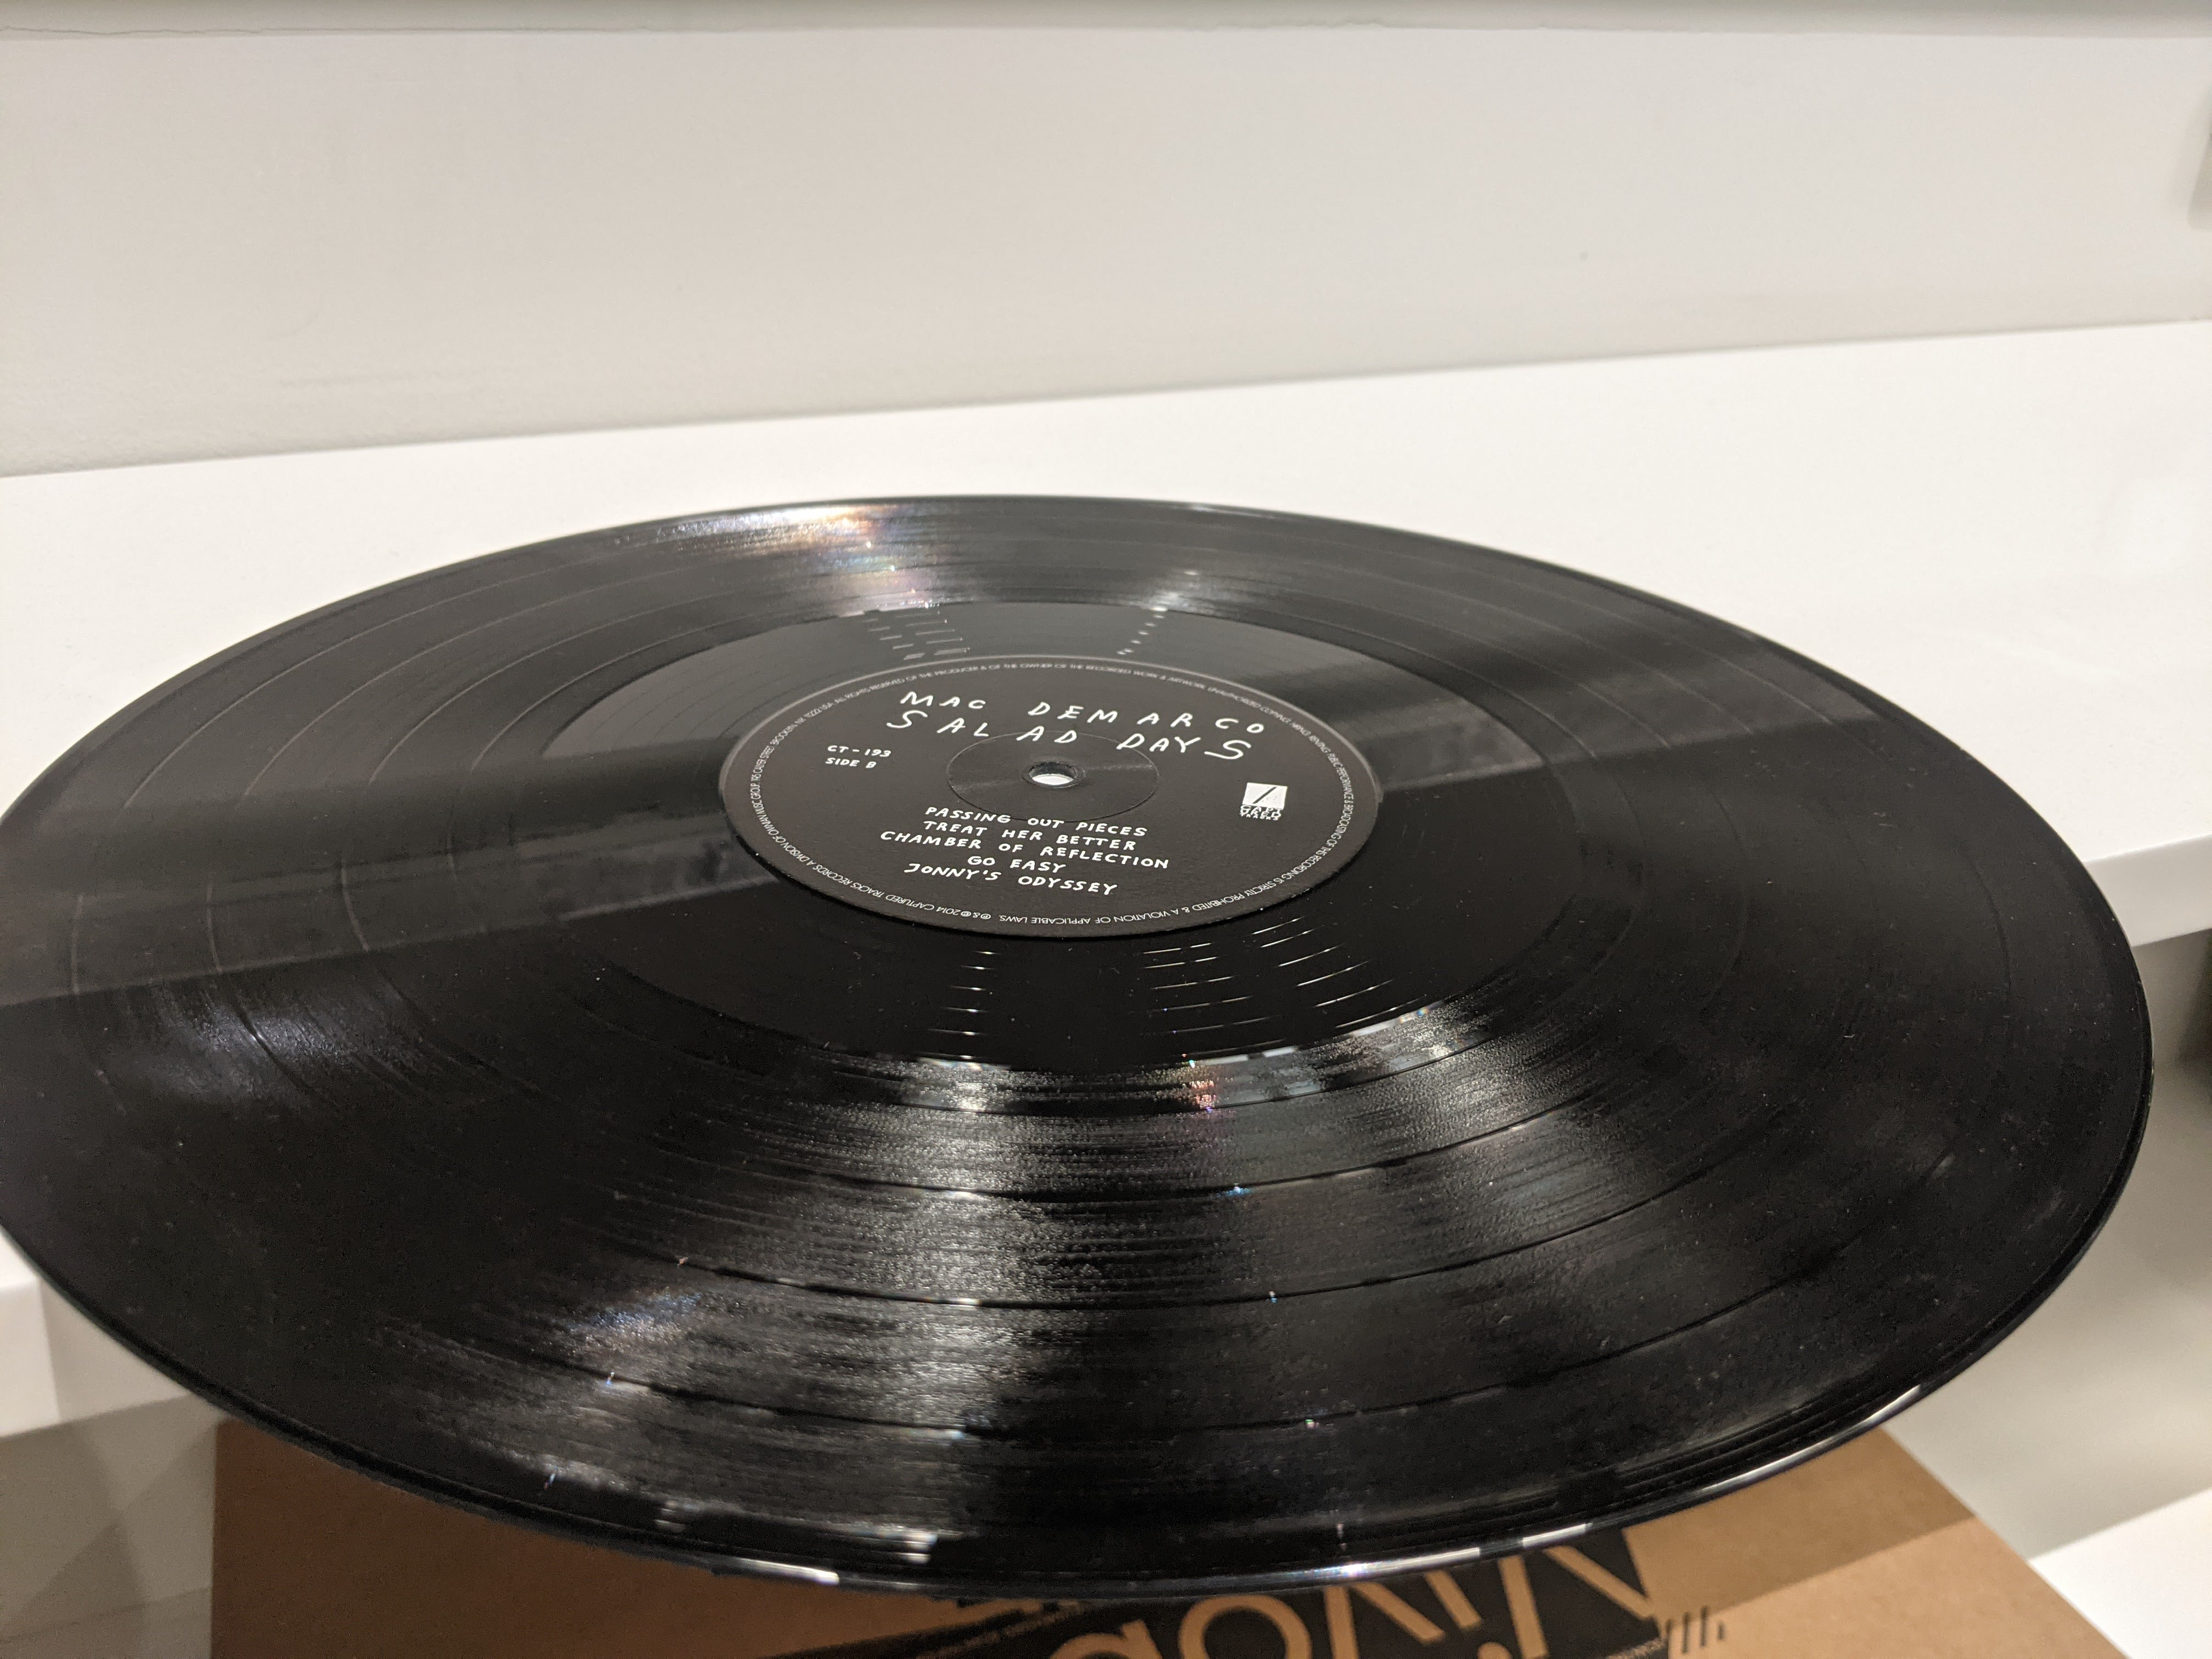song_edge: (317, 863, 402, 1023), (172, 875, 249, 1006), (45, 884, 110, 990), (449, 723, 502, 805)
